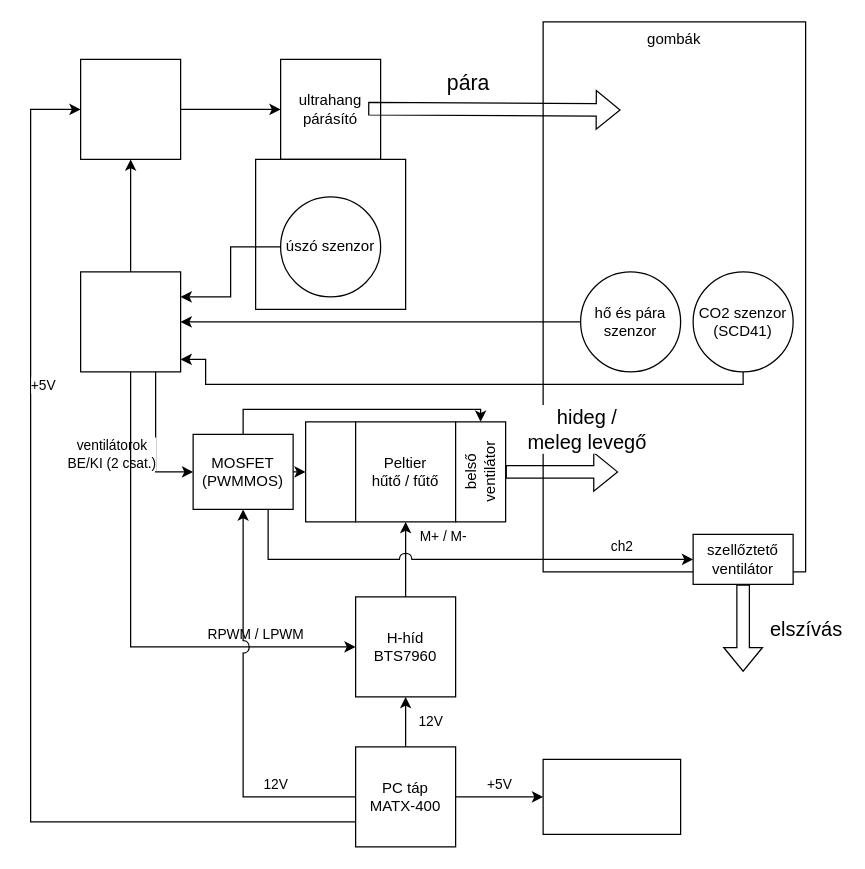
This 865x869 diagram has some shape labels left out. Here are the shapes that lost their labels. From the top down, the box of each, then its label:
(79, 58, 181, 159): relé
(254, 158, 406, 309): víztartály
(79, 271, 181, 372): MCU
(304, 421, 356, 522): külső ventilátor
(542, 758, 681, 834): terhelő ellenállás 10 Ω / 5 W
